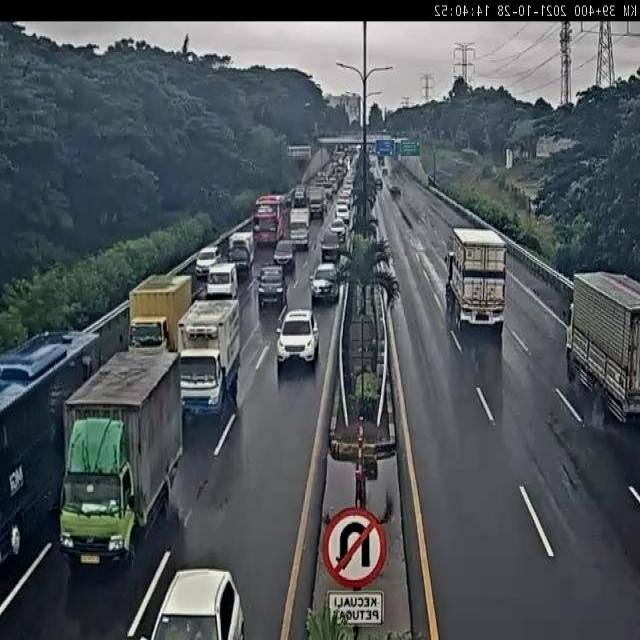Bus: (1, 350, 75, 580), (252, 208, 280, 248)
Car: (148, 568, 243, 636), (276, 313, 323, 368), (206, 262, 238, 300), (310, 266, 339, 303), (195, 246, 220, 276), (258, 264, 284, 292), (289, 214, 309, 249), (273, 240, 296, 269), (321, 232, 340, 262), (284, 308, 314, 325), (308, 192, 324, 218), (330, 217, 346, 240), (336, 204, 350, 228), (293, 187, 307, 207)
Truck: (58, 410, 150, 560), (570, 272, 639, 411), (179, 298, 242, 380), (130, 276, 190, 351), (457, 236, 506, 326), (180, 348, 235, 422), (230, 231, 255, 269)
